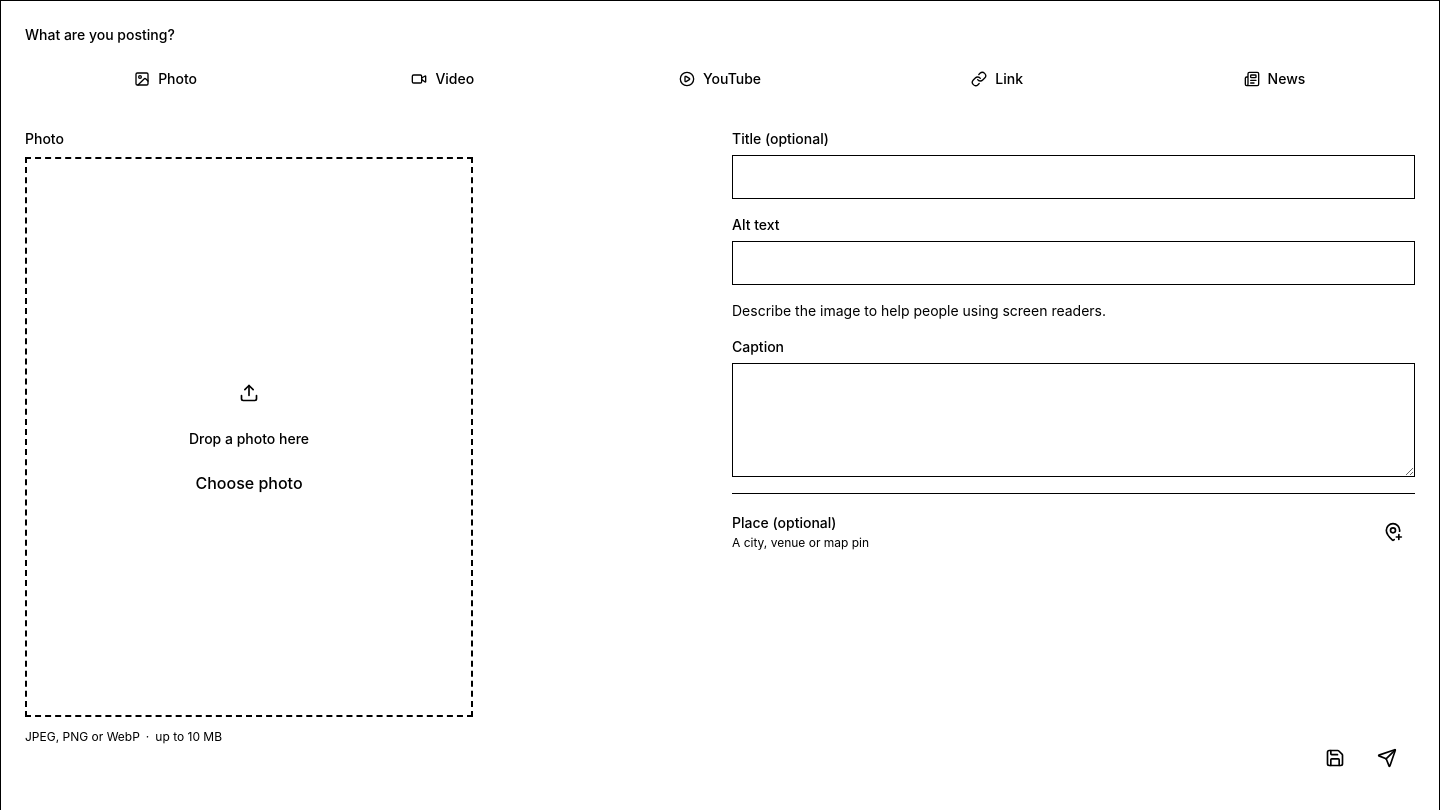
Scenario: PostForm create › BH-6: Given another link URL, should replace previous automatic metadata
Click the radio button labelled "Link" at (997,78), box [971,70,1023,87]
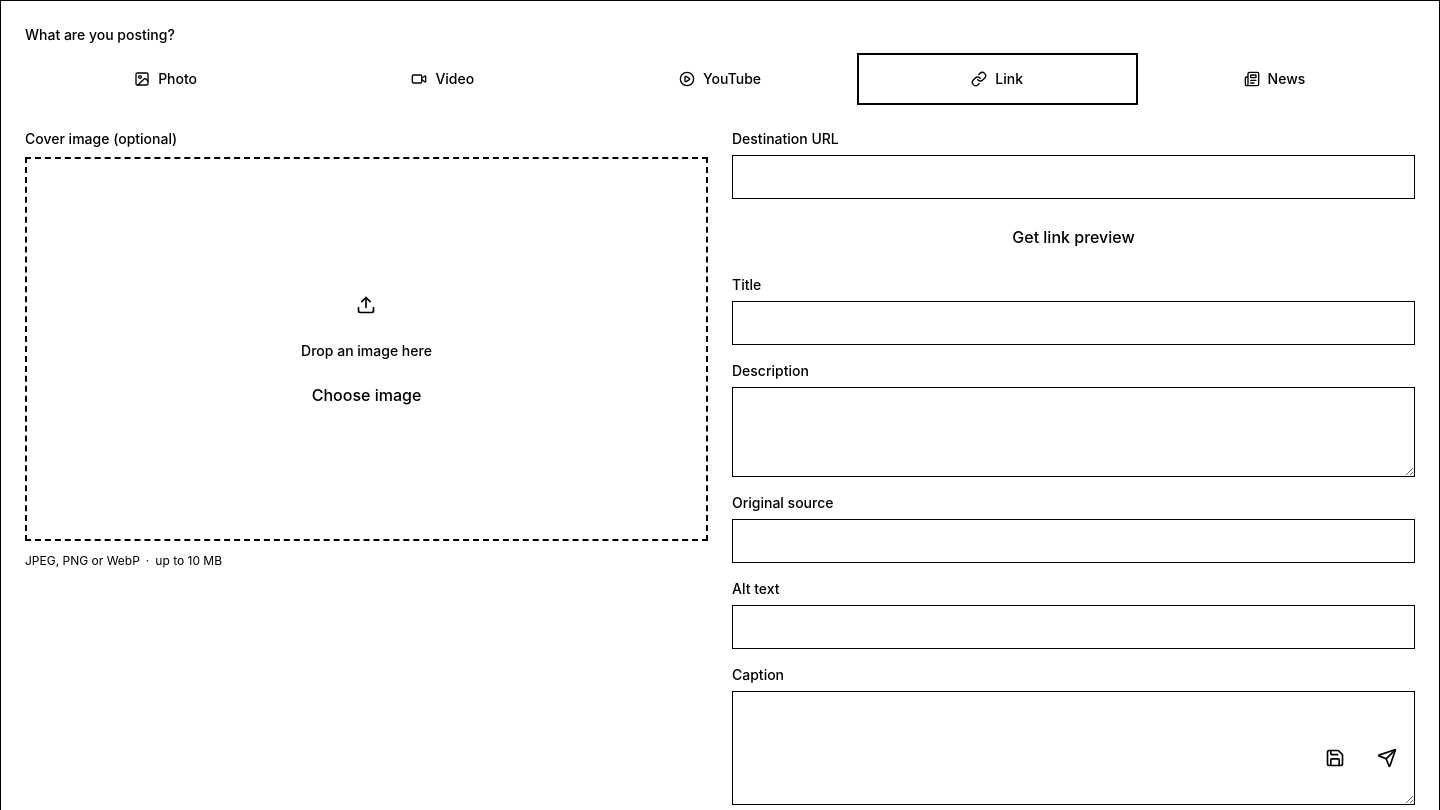
Type "https://first.test/article" into the field labelled "Destination URL" at (1074,177), box [732,155,1415,199]
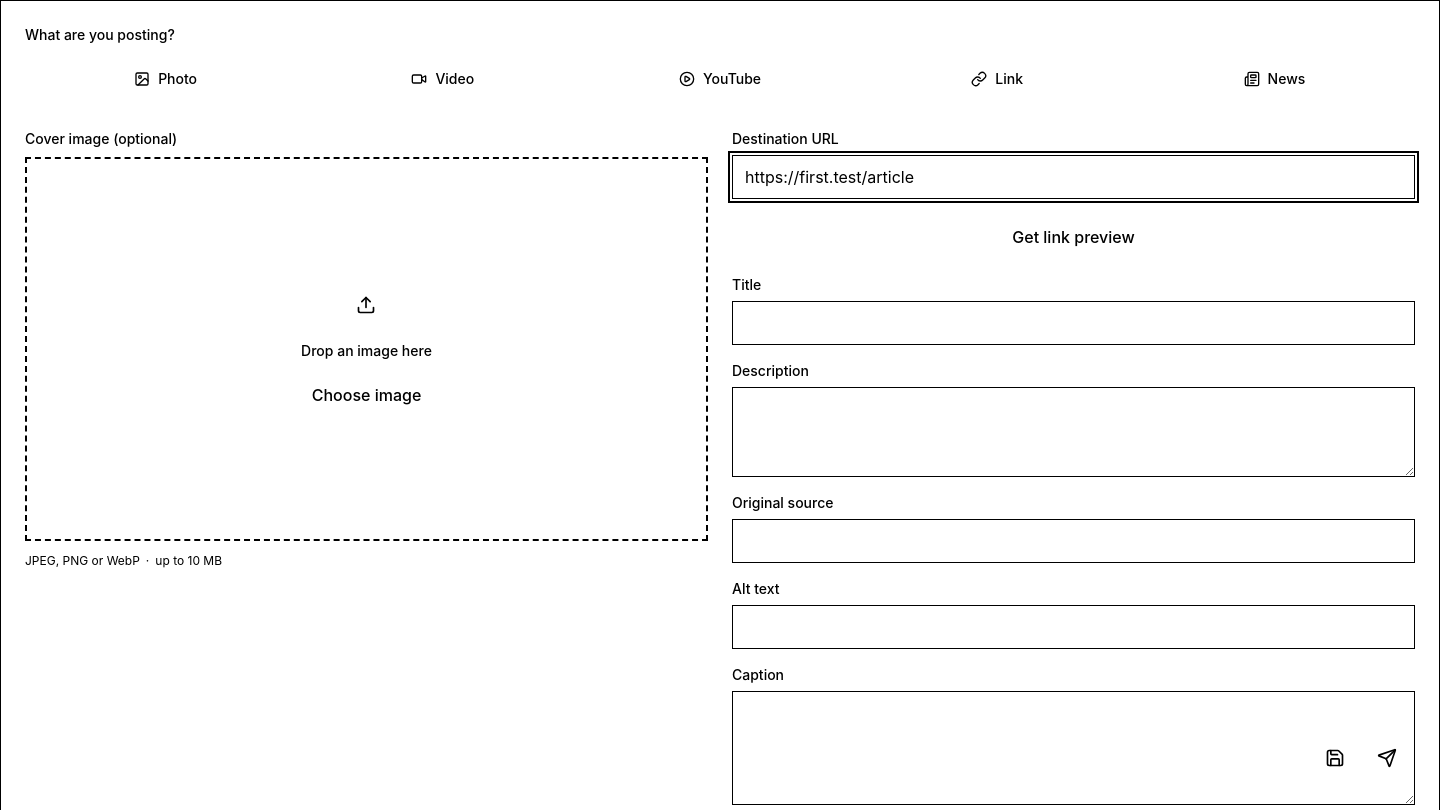
Click the button "Get link preview" at (1074,237), box [732,215,1415,259]
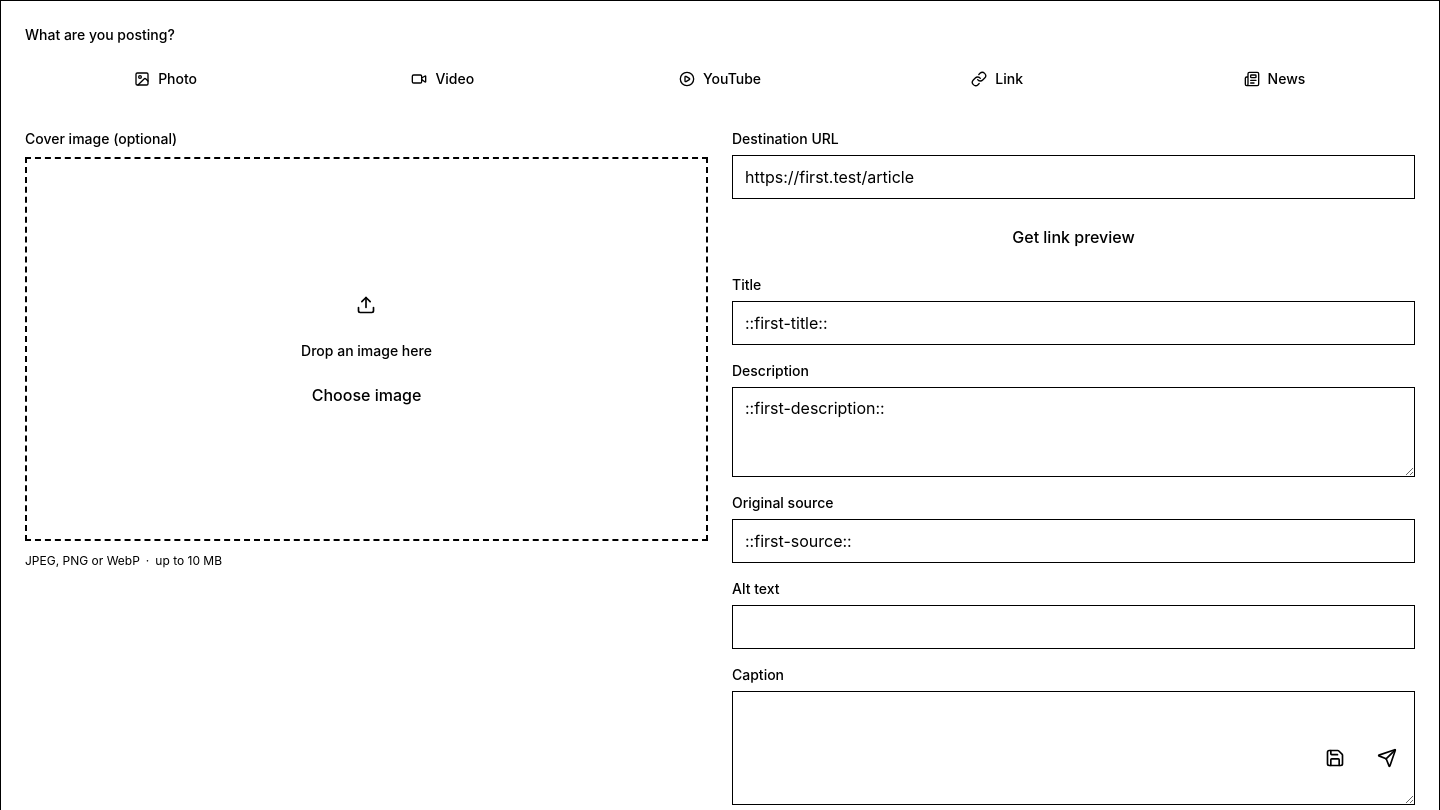
Check: the field labelled "Title" holds "::first-title::", box [732,301,1415,345]
Replace the text in the field labelled "Destination URL" with "https://second.test/article" at (1074,177), box [732,155,1415,199]
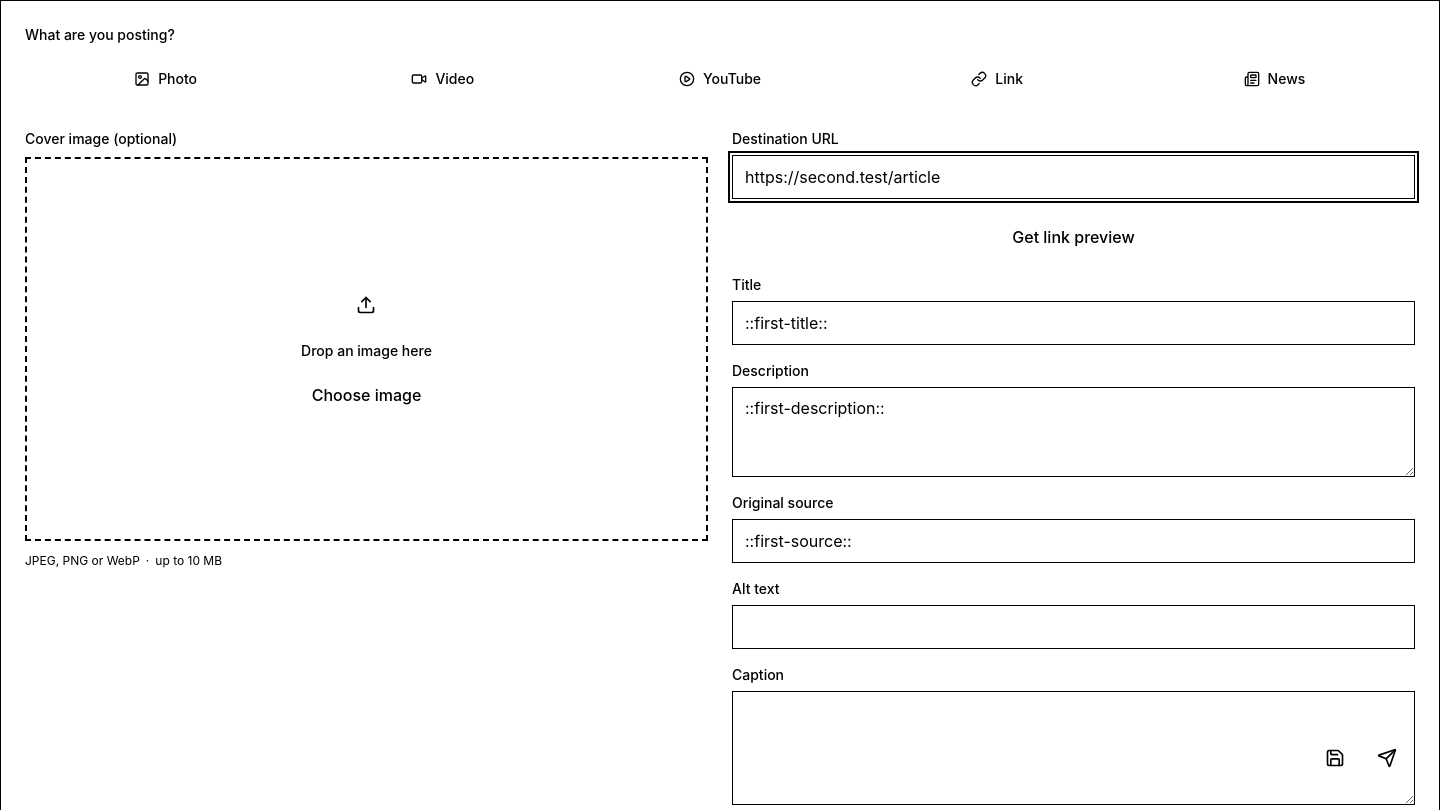
Click the button "Get link preview" at (1074,237), box [732,215,1415,259]
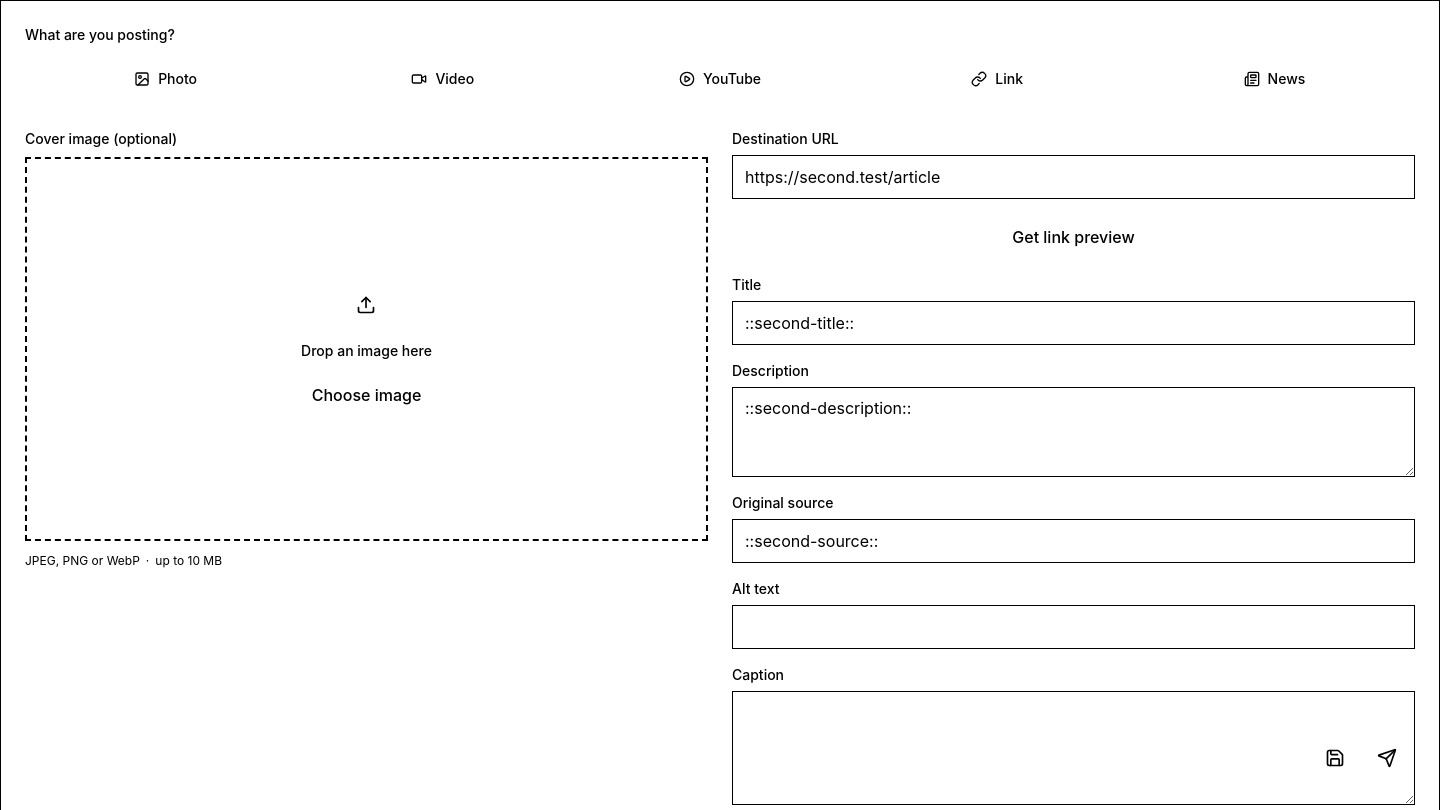
Check: the field labelled "Title" holds "::second-title::", box [732,301,1415,345]
Check: the text box labelled "Description" holds "::second-description::", box [732,387,1415,477]
Check: the field labelled "Original source" holds "::second-source::", box [732,519,1415,563]
